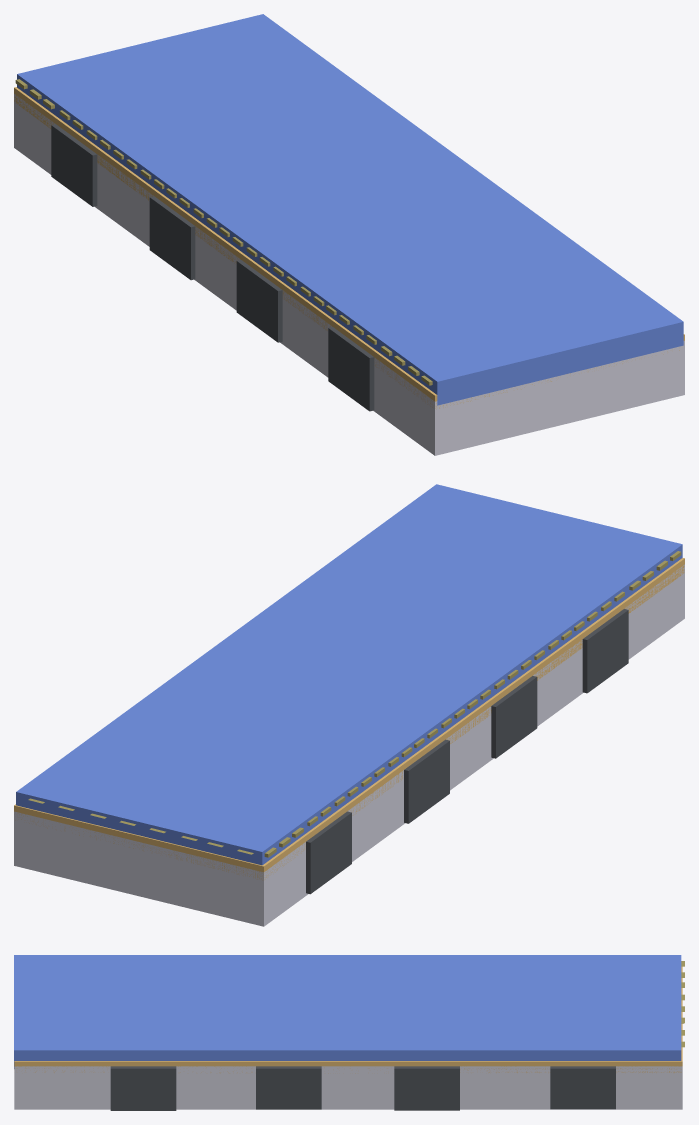
File: wafer_thinning.glb
3 views of the same model, one above another, from view 1: azimuth 30°, elevation 25°; view 2: azimuth 150°, elevation 25°; view 3: azimuth 270°, elevation 25° (orthographic). The views are drawn at different scales.
Parts seen in each view (by area): view 1: Cube.005, Cube, Cube.001, Cube.007, Cube.003, Cube.002, Cube.004; view 2: Cube.005, Cube, Cube.001, Cube.007, Cube.003, Cube.002, Cube.004; view 3: Cube.005, Cube, Cube.001, Cube.007, Cube.003, Cube.002, Cube.004.
Boxes of the visible parts, x1,y1,x2,y2 form: Cube.005: (17, 14, 683, 405); Cube: (14, 94, 684, 455); Cube.001: (14, 87, 684, 409); Cube.007: (328, 327, 374, 411); Cube.003: (149, 196, 195, 280); Cube.002: (236, 260, 282, 342); Cube.004: (51, 124, 97, 206); Cube.005: (16, 484, 682, 865); Cube: (14, 564, 684, 926); Cube.001: (14, 558, 684, 880); Cube.007: (582, 609, 628, 693); Cube.003: (404, 739, 449, 823); Cube.002: (491, 676, 537, 758); Cube.004: (306, 811, 351, 894); Cube.005: (14, 955, 681, 1068); Cube: (14, 1066, 682, 1109); Cube.001: (14, 966, 682, 1073); Cube.007: (110, 1066, 176, 1110); Cube.003: (394, 1066, 459, 1110); Cube.002: (256, 1066, 321, 1109); Cube.004: (550, 1066, 615, 1109).
Size of the model in its own units: 2.08 by 0.5632 by 5.86.
